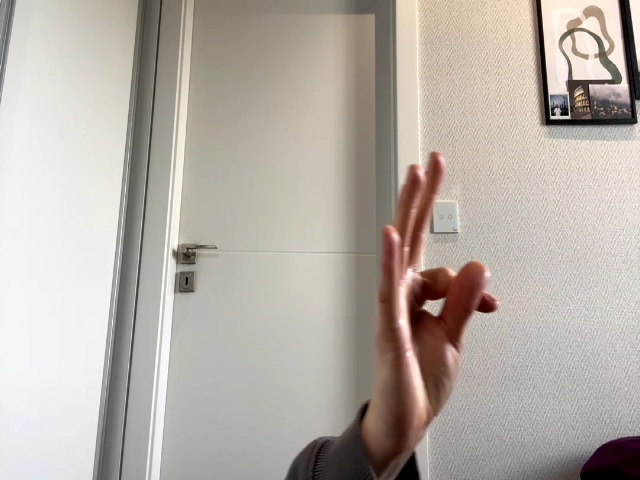T: (376, 152, 498, 440)
